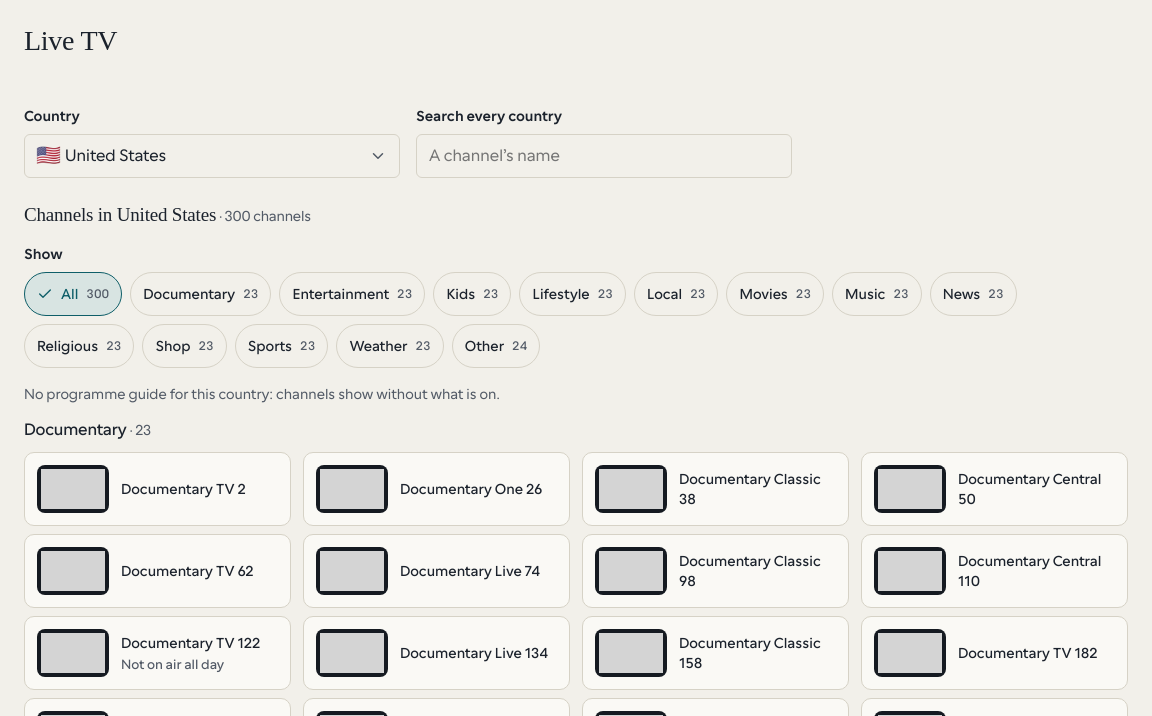
it: Live TV › shows the usual countries first: the household’s, then the last picked
Expected: the dropdown labelled "Country" holds "United States", [24, 134, 400, 178]
Click the button named "Show every country": (378, 156) [356, 134, 400, 178]
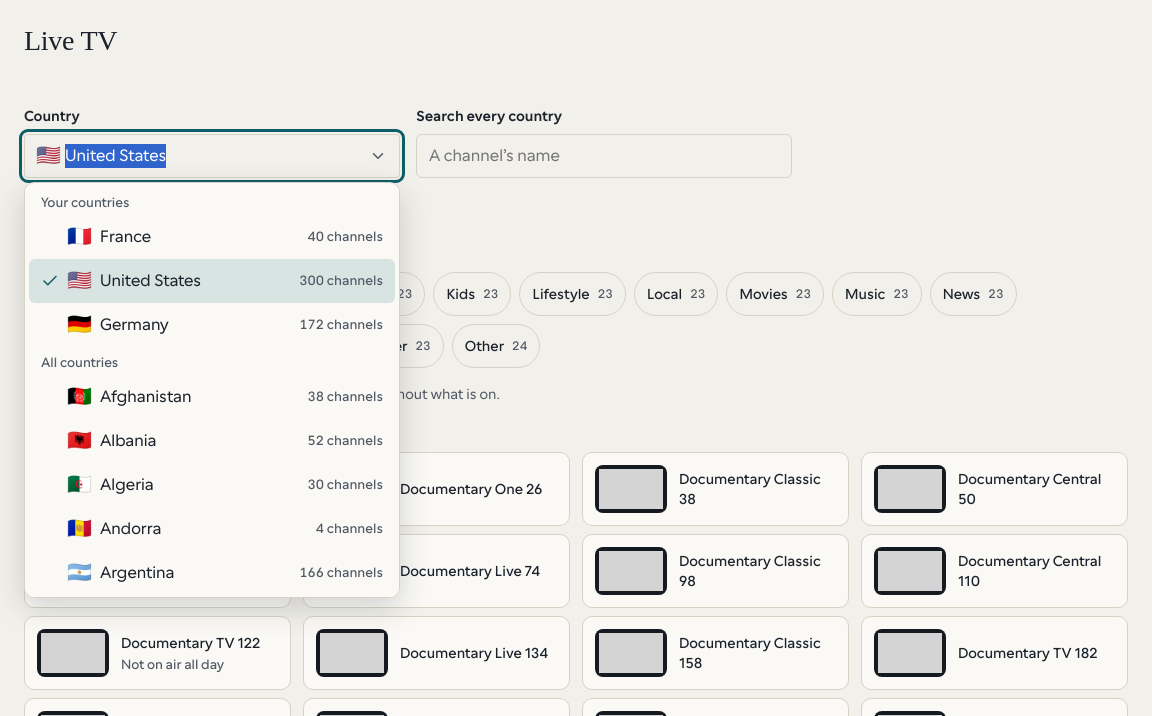
Now the element "Your countries" is shown, box [29, 187, 395, 347]
Now the option "🇦🇫 Afghanistan 38 channels" is shown, box [67, 385, 383, 408]
